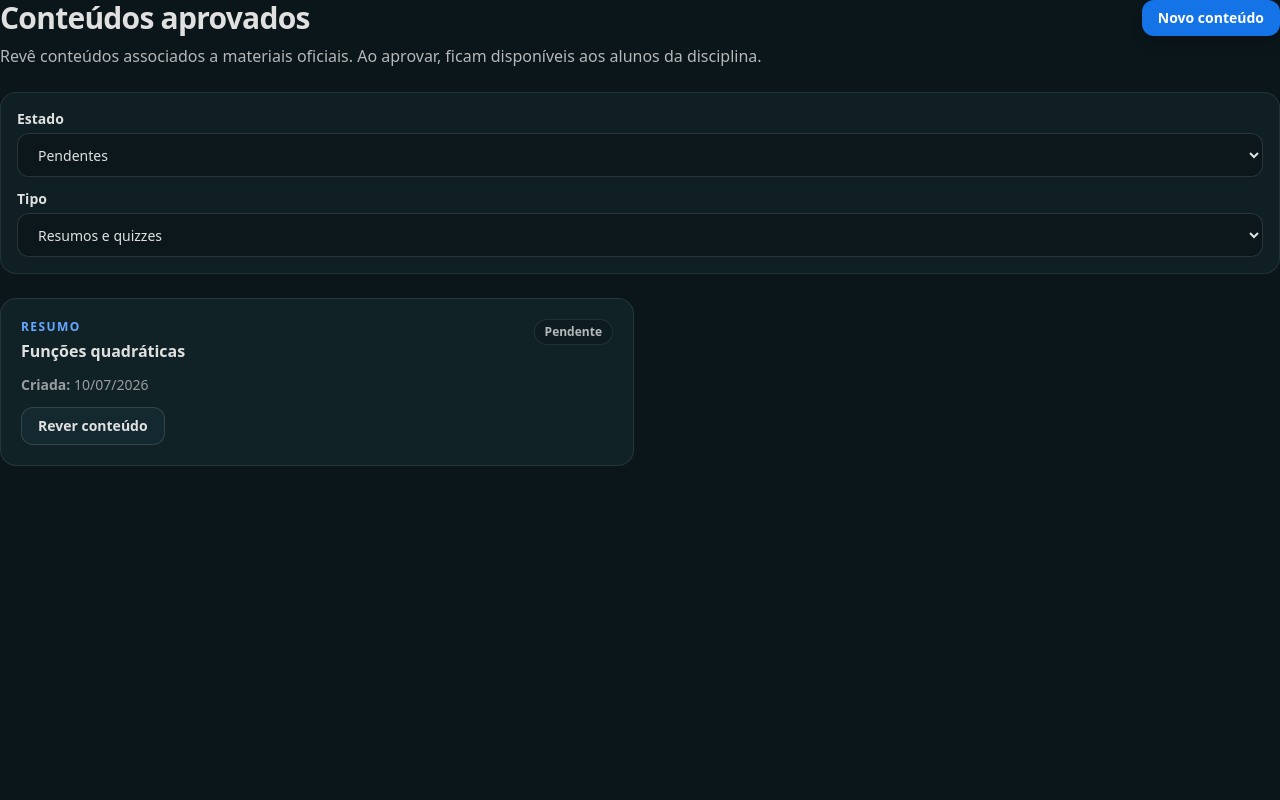
Test case: TeacherAiContentReviewsPage › mostra a fila por material e aprova com comentário sem JSON ou ids
expect the heading "Funções quadráticas" is shown: met, box [21, 339, 185, 363]
Click the button "Rever conteúdo" at (93,426), box [21, 407, 165, 445]
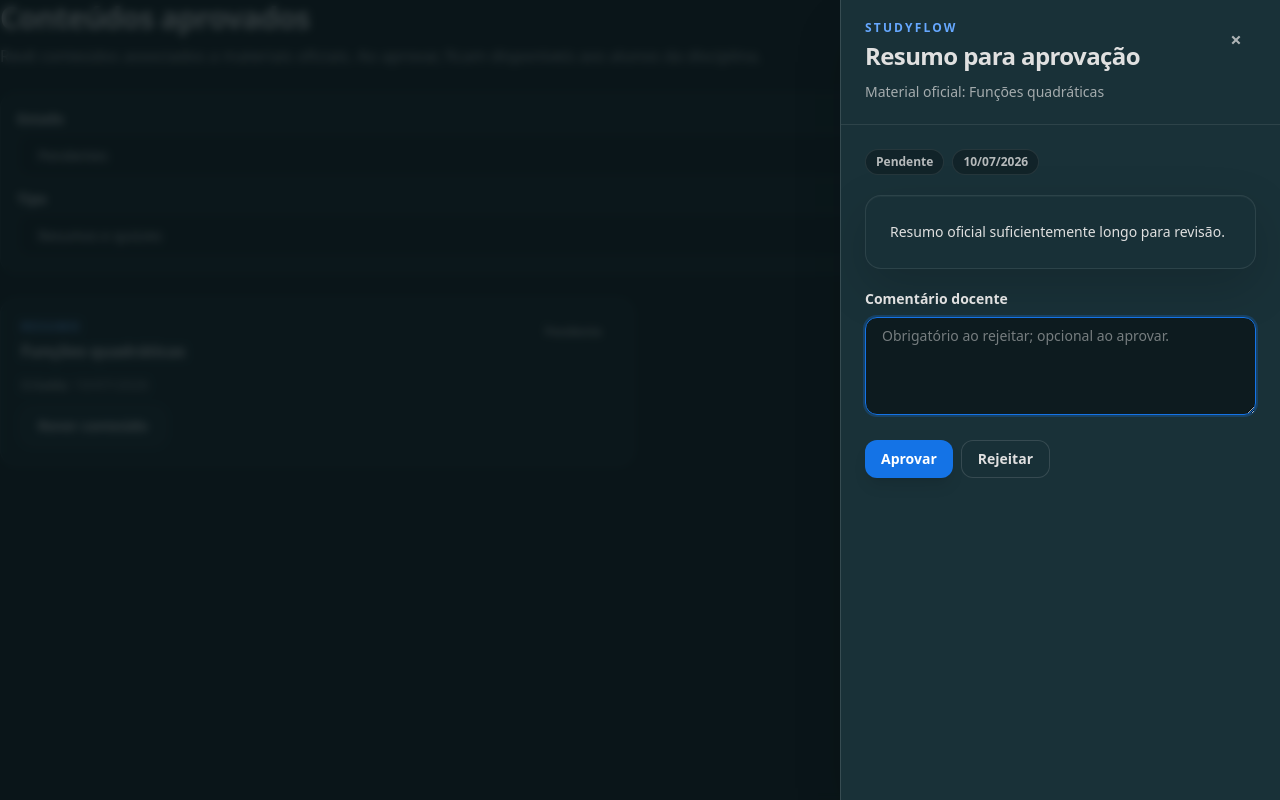
Type "Conteúdo confirmado." into the text box labelled "Comentário docente" at (1060,366), box [865, 317, 1256, 415]
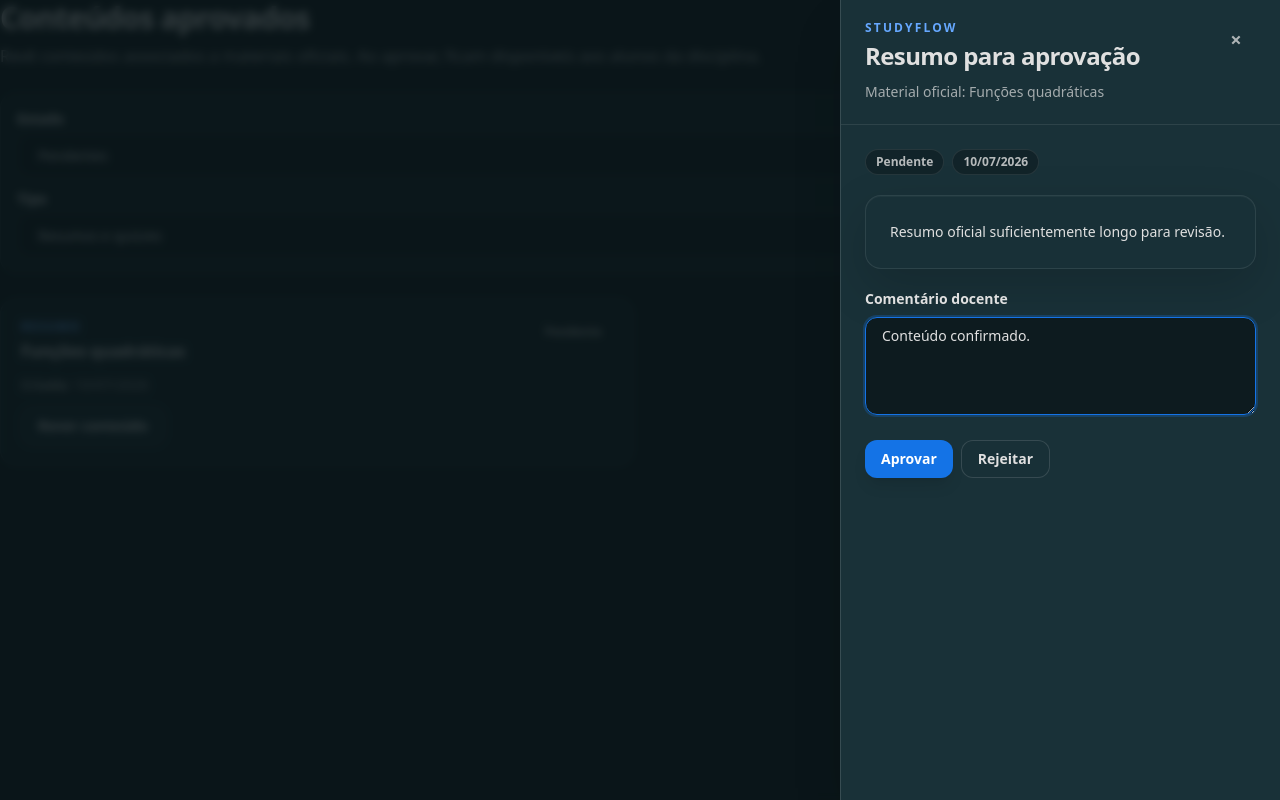
Click the button "Aprovar" at (909,459), box [865, 440, 953, 478]
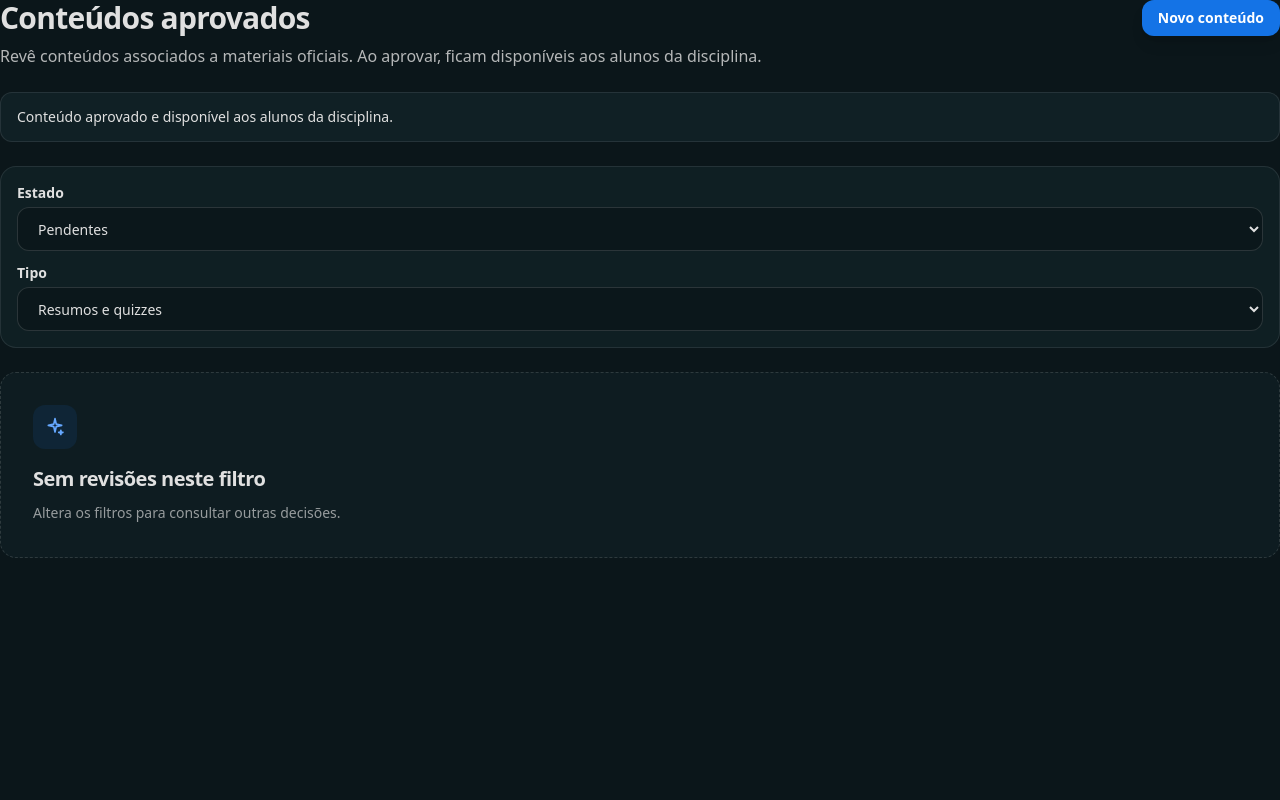
expect the text "Conteúdo aprovado e disponível aos alunos da disciplina." is shown: met, box [0, 92, 1279, 142]
